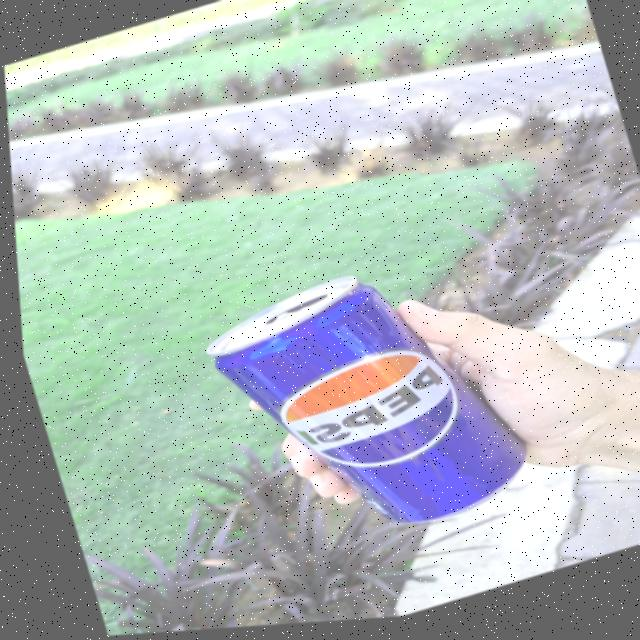Pepsi: (194, 252, 528, 575)
